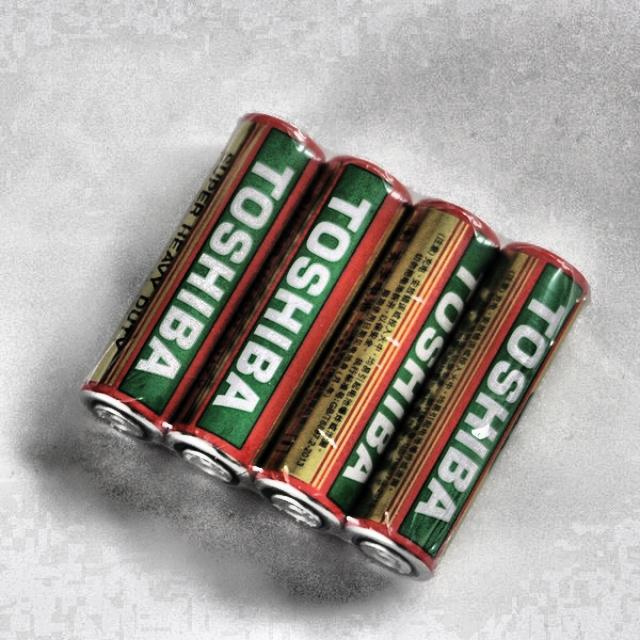Non-Valuable Waste - Batteries: (255, 200, 499, 531), (348, 244, 589, 578), (84, 115, 324, 441), (169, 159, 409, 482)
